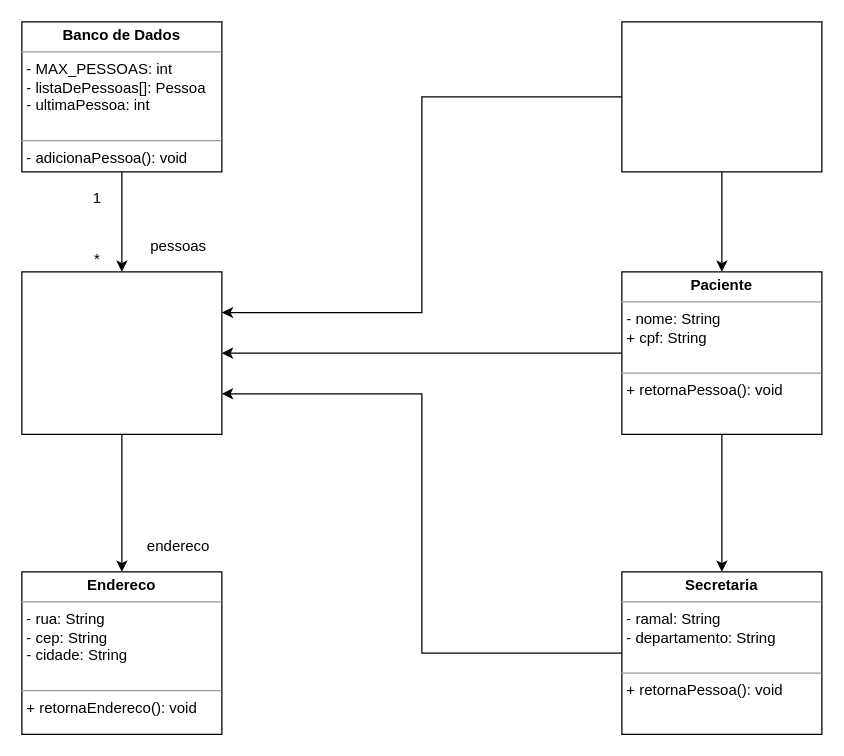
Some shapes in this 844 by 756 pixel diagram are drawn without their labels. The shapes that lost their labels are listed below. From the top down, each one's centre as x and y in pixels, then its label:
At (x=721, y=96): "Medico - crm: String - especialidade: String + retornaPessoa(): void".
At (x=121, y=352): "Pessoa - nome: String + cpf: String + retornaPessoa(): void".
